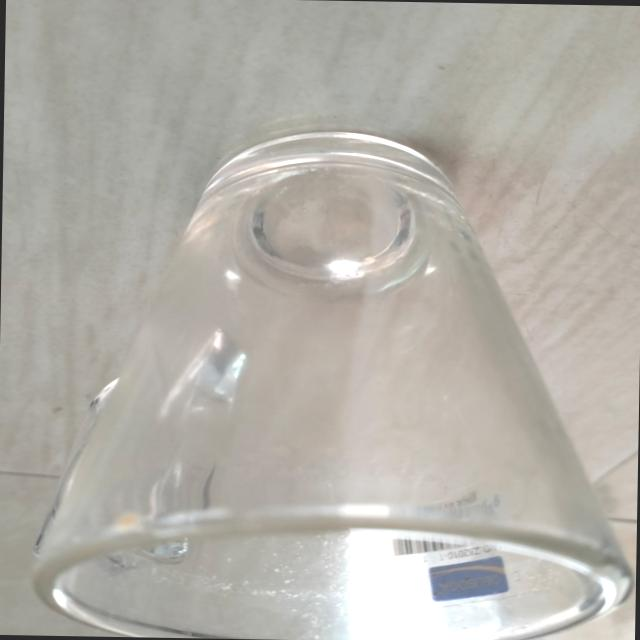glass-VX4N: (26, 125, 640, 640)
